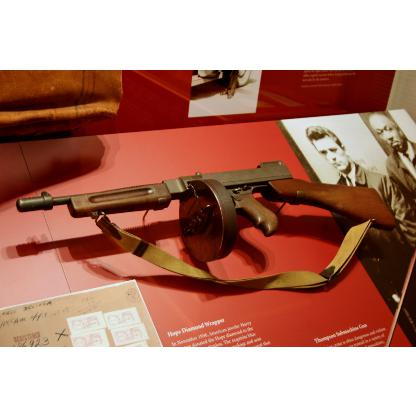gun: (15, 158, 396, 290), (15, 159, 395, 289)
